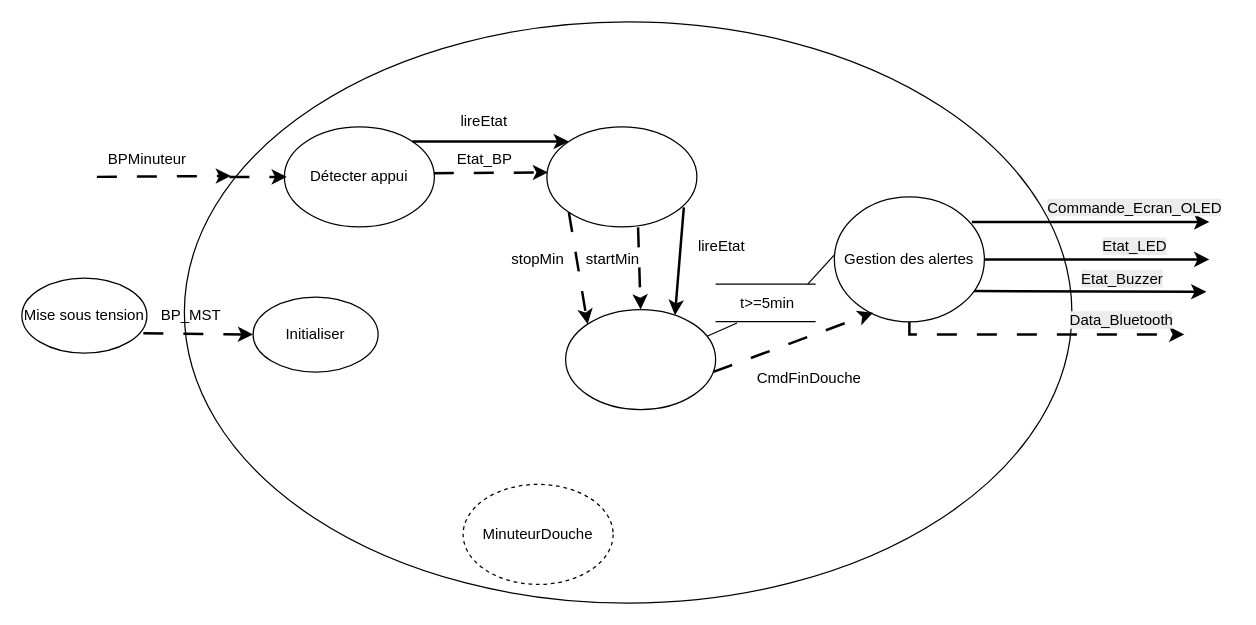
The diagram is 1256 pixels wide and 625 high, and some of its shapes have lost their labels. The box of each missing label's shape, as (x1, y1, x2, y2) in pixels:
Gestion des appuis: (546, 126, 697, 227)
Élaborer les commandes: (564, 308, 716, 410)
